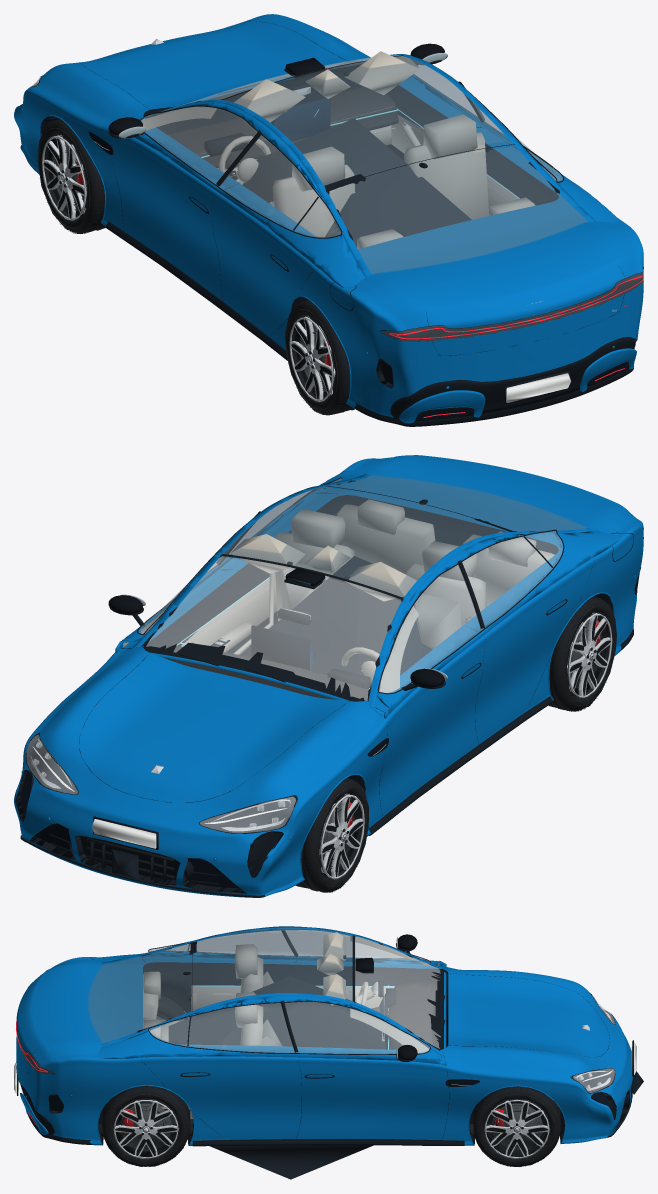
File: xiaomi-su7.low.glb
3 views of the same model, one above another, from view 1: azimuth 30°, elevation 25°; view 2: azimuth 150°, elevation 25°; view 3: azimuth 270°, elevation 25° (orthographic). The views are drawn at different scales.
Parts seen in each view (by area): view 1: geometry:body, geometry:interior, geometry:wheel-front-left, geometry:wheel-rear-left, geometry:spoiler, geometry:steering; view 2: geometry:body, geometry:interior, geometry:wheel-rear-left, geometry:wheel-front-left, geometry:spoiler; view 3: geometry:body, geometry:interior, geometry:wheel-rear-right, geometry:wheel-front-right, geometry:spoiler, geometry:wheel-rear-left.
Part boxes in pixels (x1,y1,x2,y2): geometry:body: (14,14,643,426); geometry:interior: (141,51,535,248); geometry:wheel-front-left: (37,119,105,233); geometry:wheel-rear-left: (285,300,354,415); geometry:spoiler: (394,242,628,310); geometry:steering: (218,136,270,184); geometry:body: (14,457,643,897); geometry:interior: (123,499,554,708); geometry:wheel-rear-left: (548,596,616,711); geometry:wheel-front-left: (296,778,368,892); geometry:spoiler: (395,455,628,511); geometry:body: (14,926,643,1146); geometry:interior: (143,932,439,1179); geometry:wheel-rear-right: (101,1086,190,1166); geometry:wheel-front-right: (473,1086,561,1166); geometry:spoiler: (31,965,62,1051); geometry:wheel-rear-left: (156,996,187,1020).
Size of the model in its own units: 2.34 by 2.02 by 5.09.
